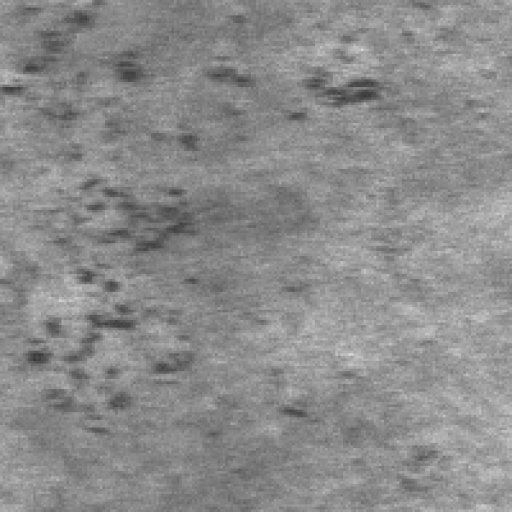rolled_in_scale: (19, 162, 212, 432), (153, 4, 401, 157), (5, 5, 153, 162)
